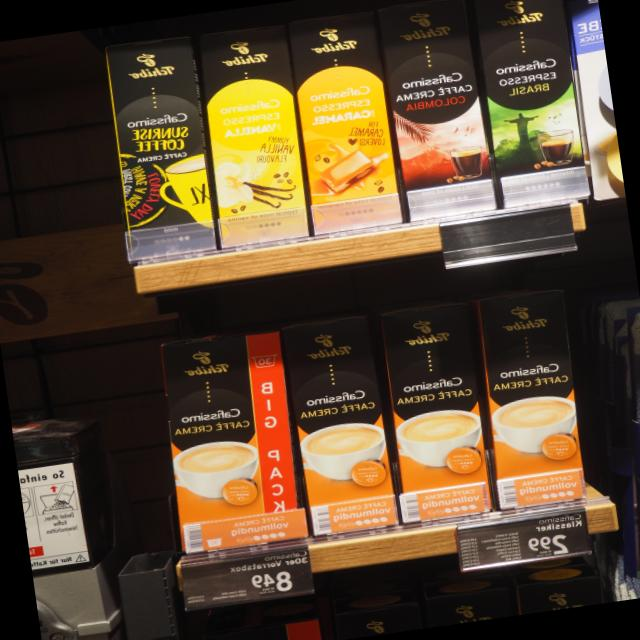Simo CC Colombia: (377, 0, 500, 225)
Simo CCVollmundig: (160, 327, 306, 554)
Simo CCVollmundig bigpack: (377, 299, 497, 526), (280, 313, 401, 538), (474, 287, 588, 513)
Simo Es Brazil: (464, 0, 593, 210)
Simo Es Caramel: (284, 8, 405, 236)
Simo Es Vanilla: (197, 22, 313, 249)
Simo Sunrise: (101, 33, 218, 265)
